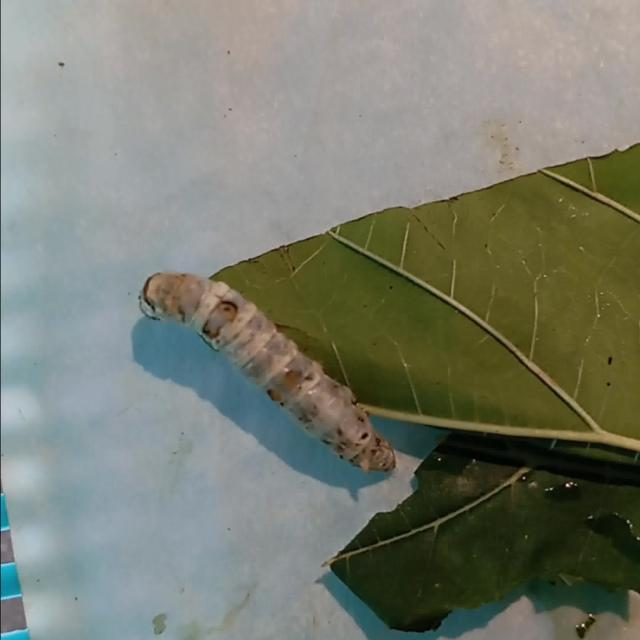Grasserie: (120, 249, 412, 504)
